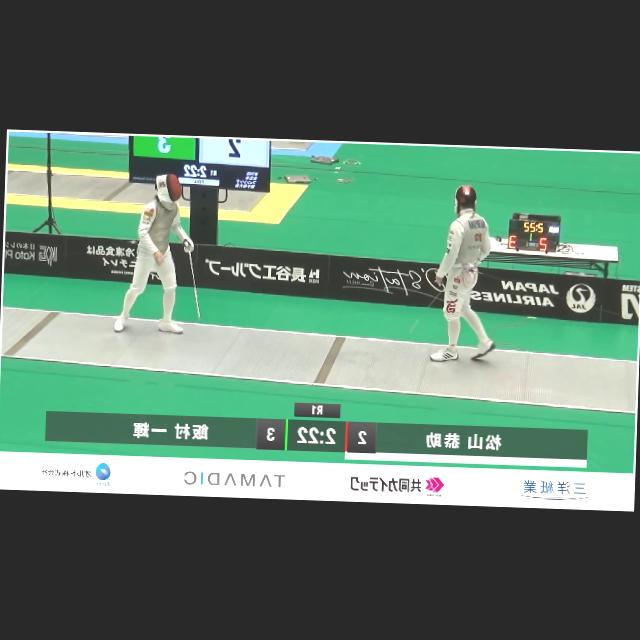blade: (178, 239, 208, 326), (406, 278, 450, 334)
